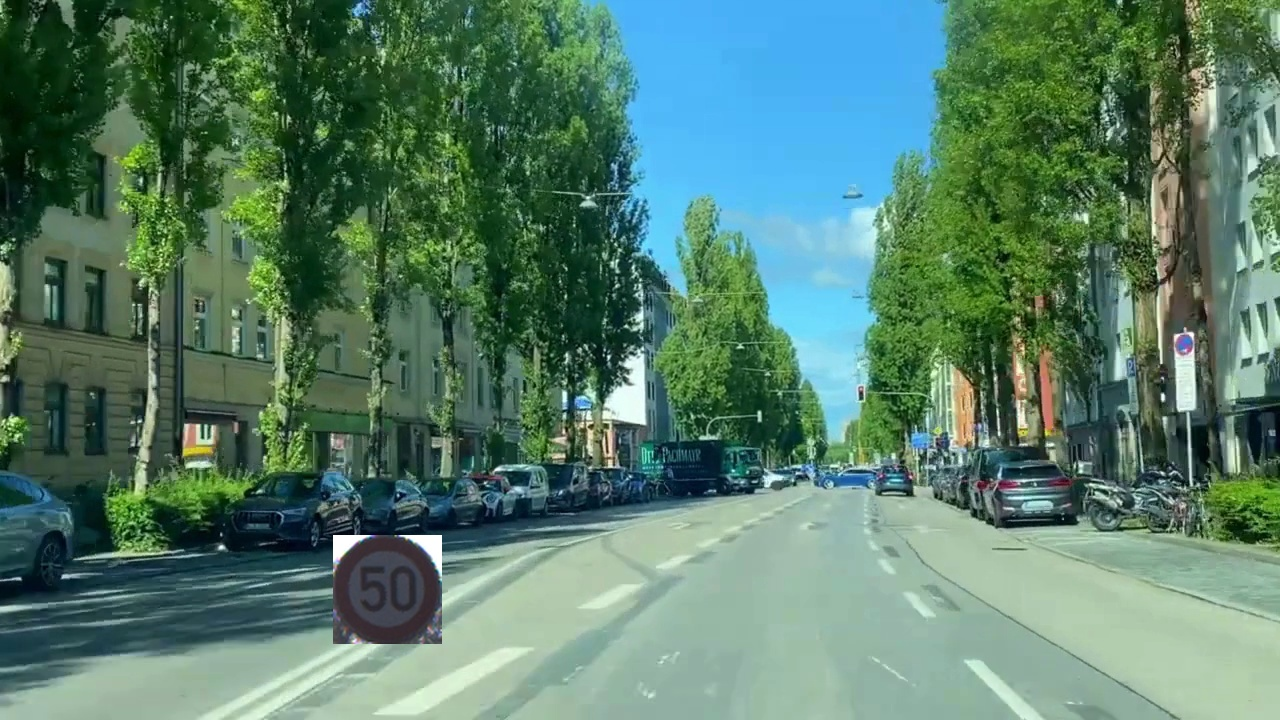Speed 50: (333, 535, 442, 644)
